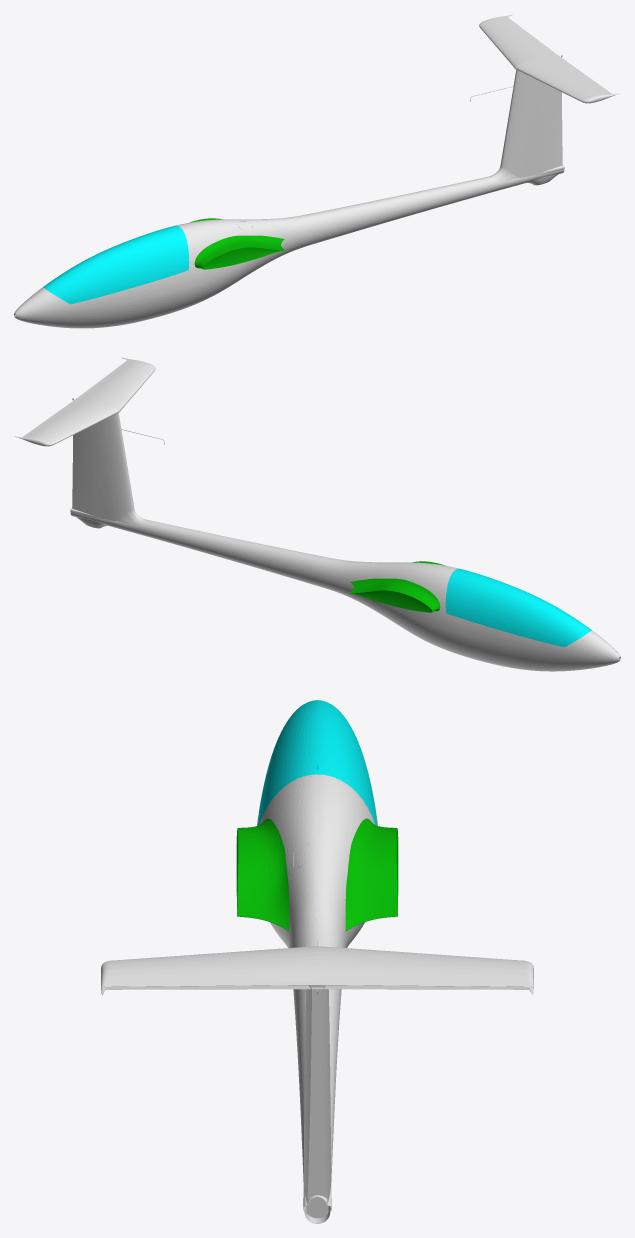
File: pik_20b_fuselage.dae
The picture shows the model from 3 angles, top to bottom: view 1: azimuth 30°, elevation 25°; view 2: azimuth 150°, elevation 25°; view 3: azimuth 270°, elevation 25°; orthographic projection. The views are drawn at different scales.
Parts seen in each view (by area): view 1: node16.002; view 2: node16.002; view 3: node16.002.
Part boxes in pixels (x1,y1,x2,y2): node16.002: (14,14,620,328); node16.002: (14,357,620,671); node16.002: (101,700,533,1223).
Size of the model in its own units: 6.04 by 2.05 by 1.71.
